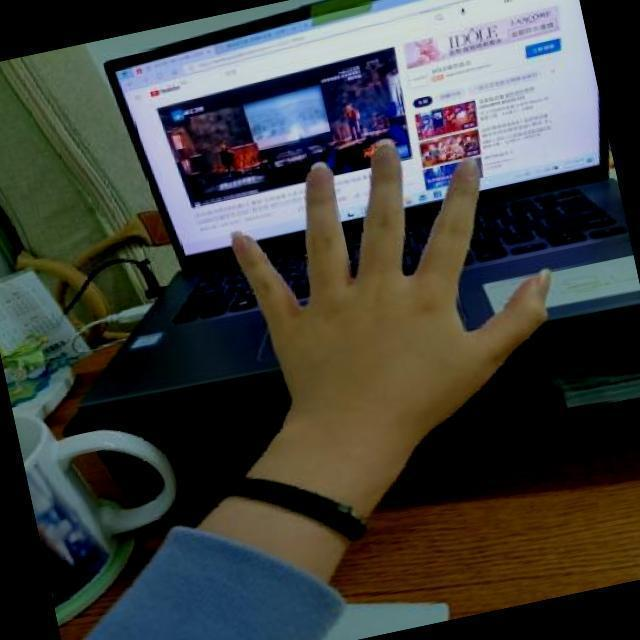hand: (188, 84, 601, 487)
